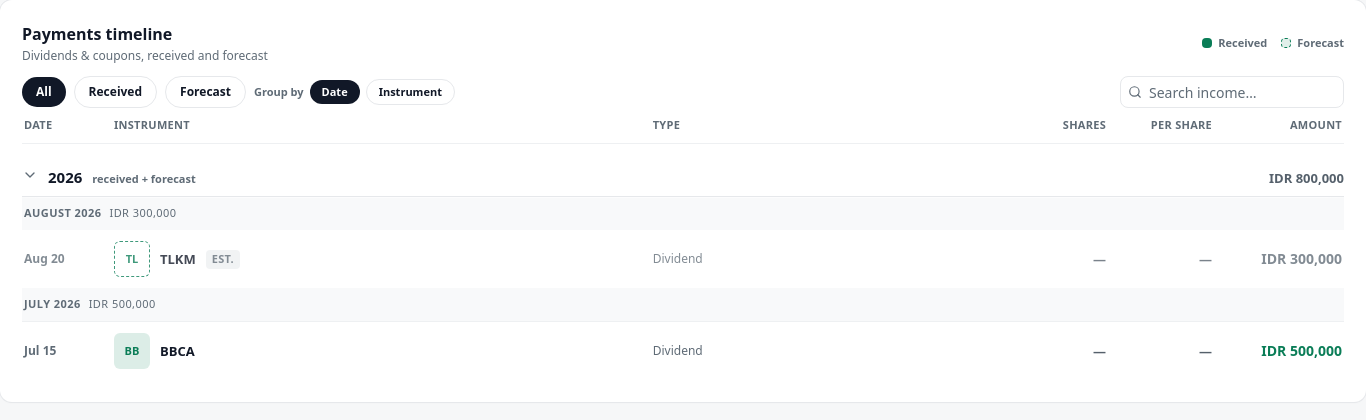
it: IncomeTimeline › filters to forecast rows only
This screenshot has width=1366, height=420.
Click the radio button labelled "Forecast" at [206, 92], box [165, 76, 246, 108]
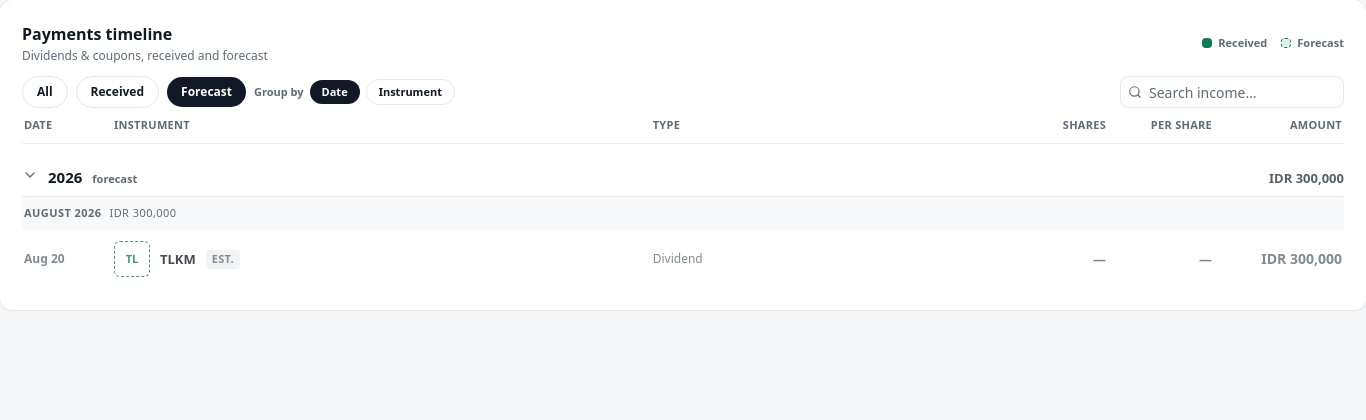
Expected: the text "TLKM" is shown, [160, 250, 196, 269]
Expected: the text "BBCA" is gone
